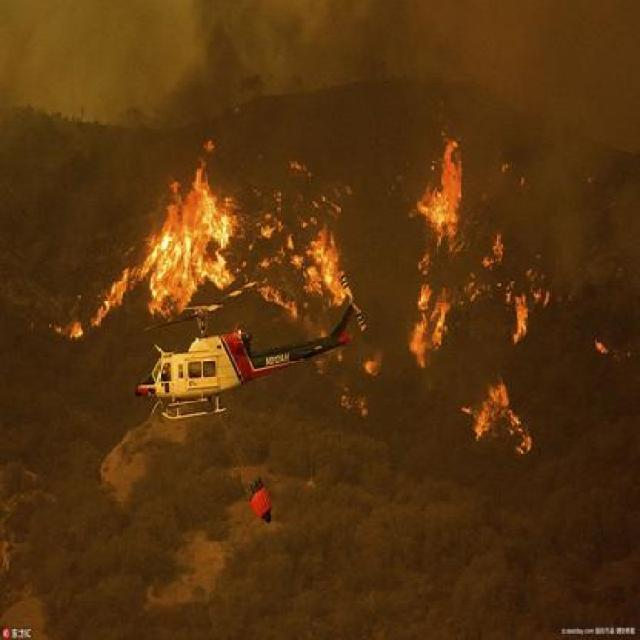Fire: (52, 124, 550, 462), (596, 330, 612, 366)
